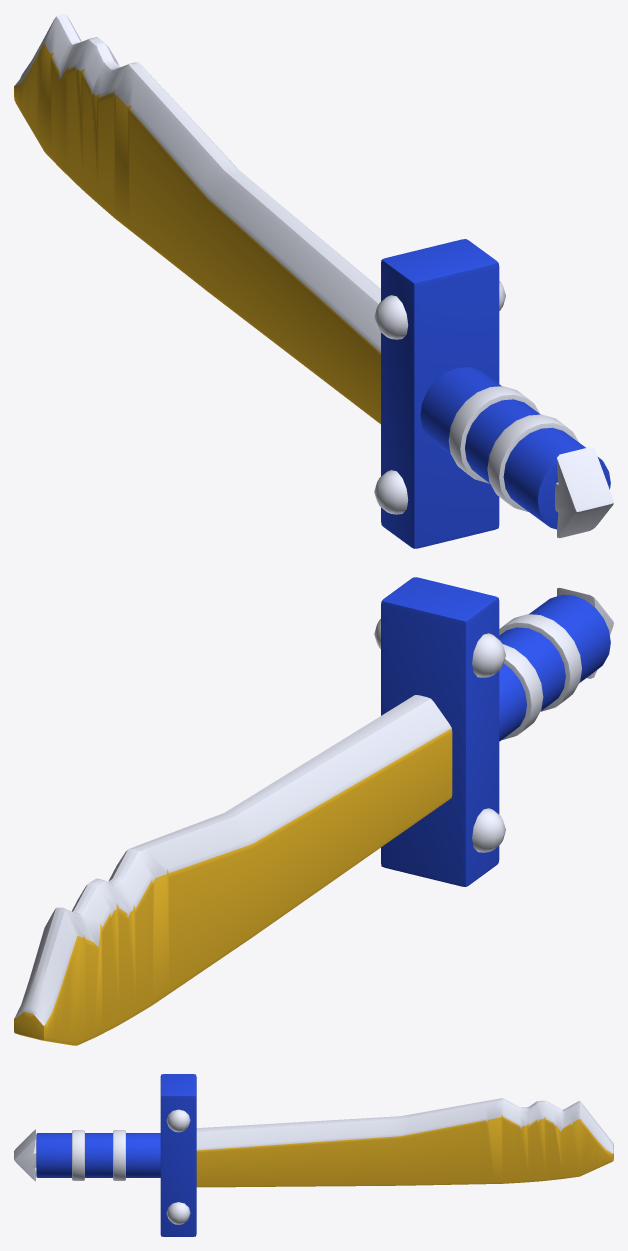
The model's file is Sword_CoppervaneFalchion.glb.
3 renders of one model, top to bottom at view 1: azimuth 30°, elevation 25°; view 2: azimuth 150°, elevation 25°; view 3: azimuth 270°, elevation 25°, orthographic. The views are drawn at different scales.
Visible parts, largest first — view 1: Sword_CoppervaneFalchion; view 2: Sword_CoppervaneFalchion; view 3: Sword_CoppervaneFalchion.
Boxes of the visible parts, left/top/right/bottom form: Sword_CoppervaneFalchion: left=14, top=14, right=613, bottom=548; Sword_CoppervaneFalchion: left=14, top=577, right=613, bottom=1045; Sword_CoppervaneFalchion: left=14, top=1074, right=613, bottom=1236.
Size of the model in its own units: 0.1281 by 0.2603 by 1.
Materials: 1 (1 with a texture image).
